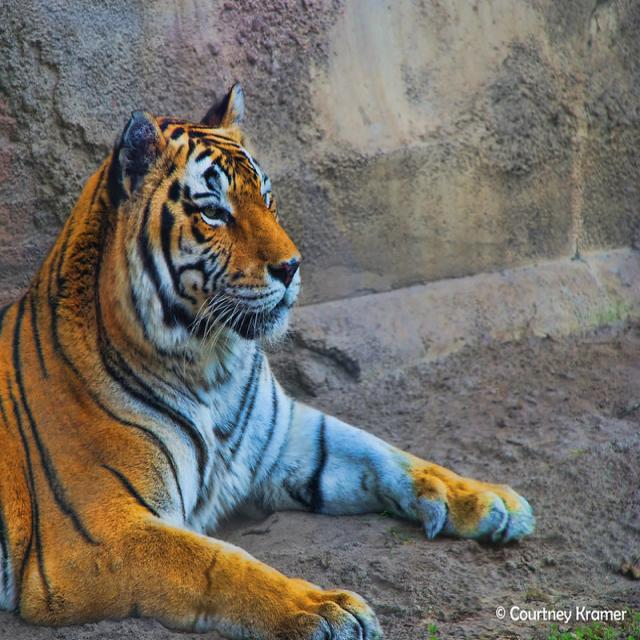Tiger: (0, 78, 538, 638)
